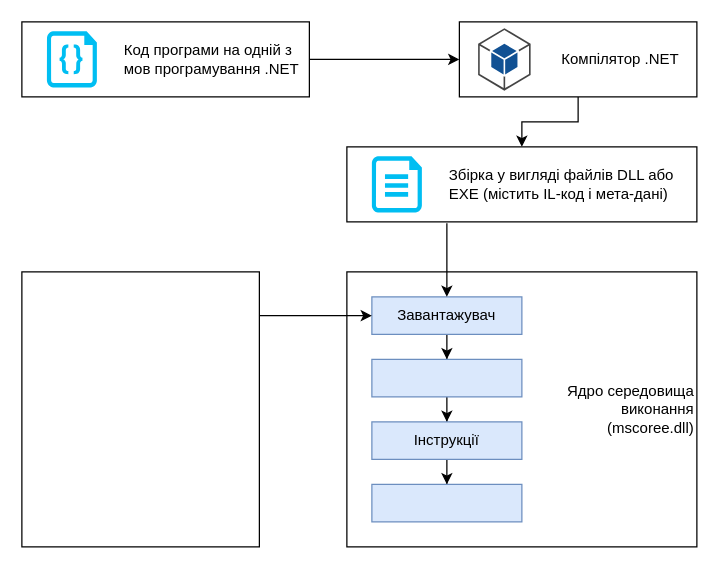
The diagram is 719 pixels wide and 569 high, and some of its shapes have lost their labels. Here are the shapes that lost their labels. From the top down, the centre of each, then its label:
the point at 446,377: JIT-компілятор
the point at 140,409: Бібліотеки базових класів (mscorelib.dll та інші)
the point at 446,502: Виконання
